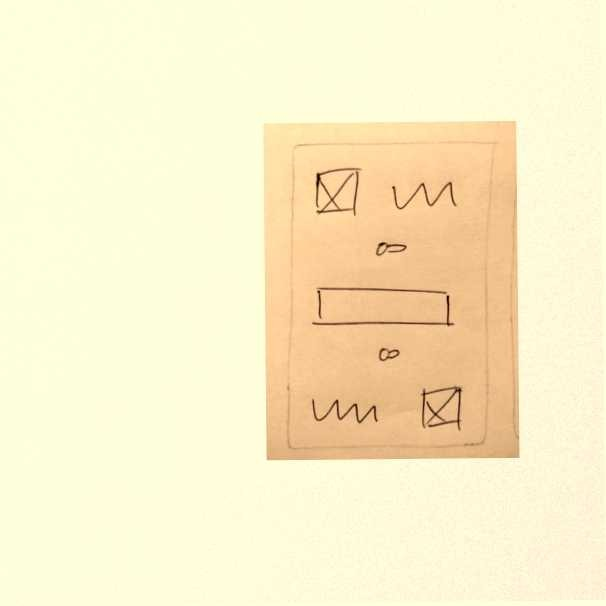image: (312, 161, 363, 224), (413, 384, 474, 435)
switch: (368, 235, 414, 266), (373, 343, 404, 365)
text: (385, 175, 462, 214), (305, 393, 383, 430)
text_input: (308, 281, 458, 331)
